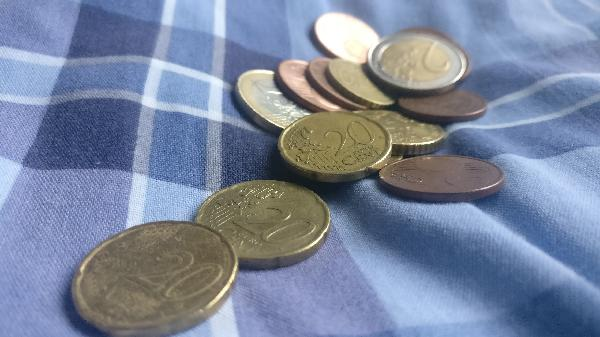Five Cent: (389, 153, 513, 204), (276, 57, 344, 113), (308, 56, 374, 111), (406, 91, 490, 124)
One Euro: (238, 66, 323, 140)
Ten Cent: (332, 61, 394, 105)
Twenty Cent: (72, 220, 241, 335), (196, 177, 332, 271), (278, 112, 390, 181)
Two Euro: (370, 35, 469, 89)
